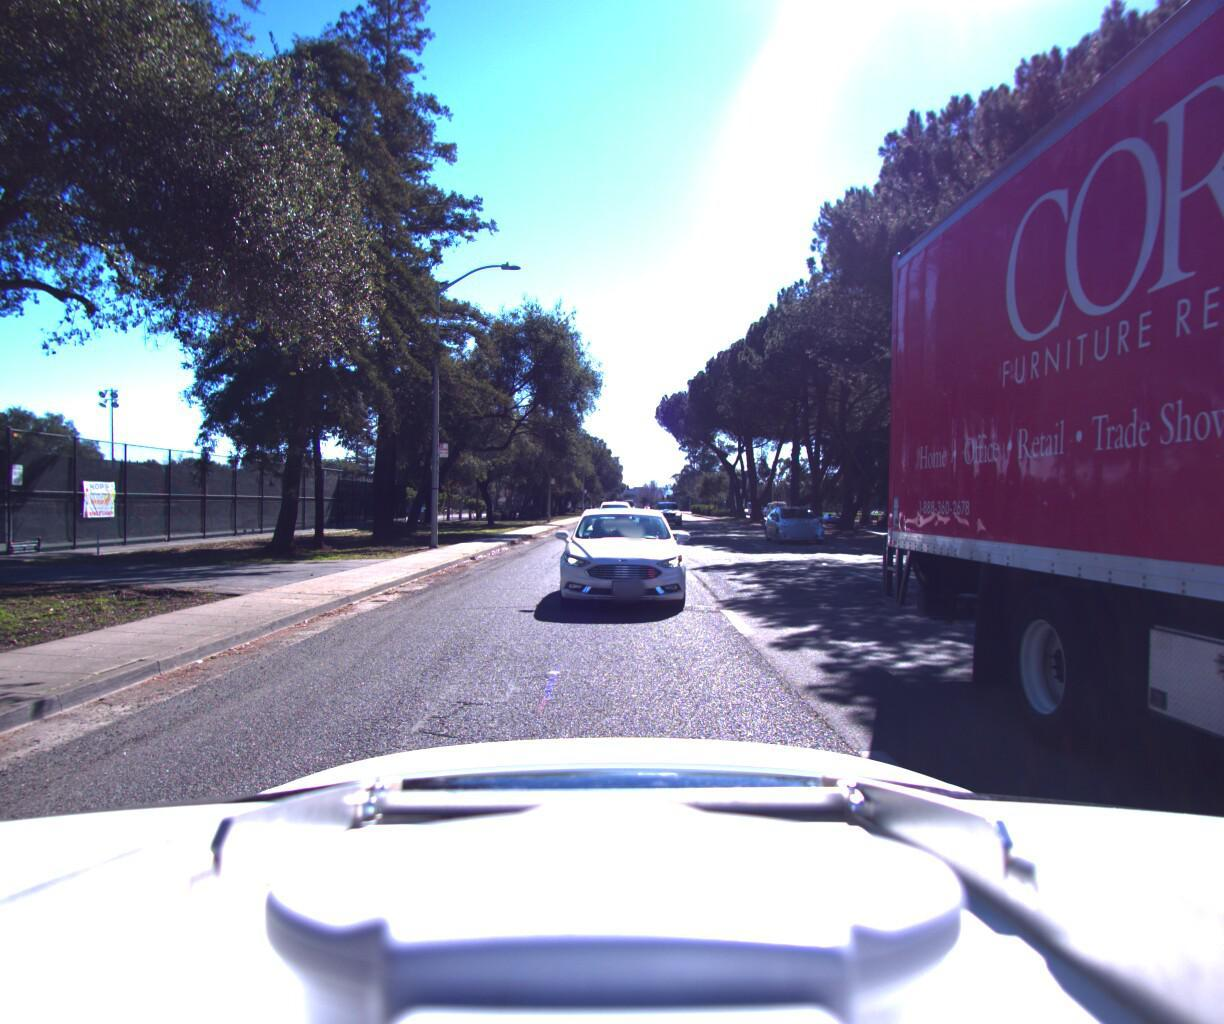car: (546, 498, 701, 628), (766, 494, 843, 544), (595, 496, 639, 535), (652, 497, 685, 523)
